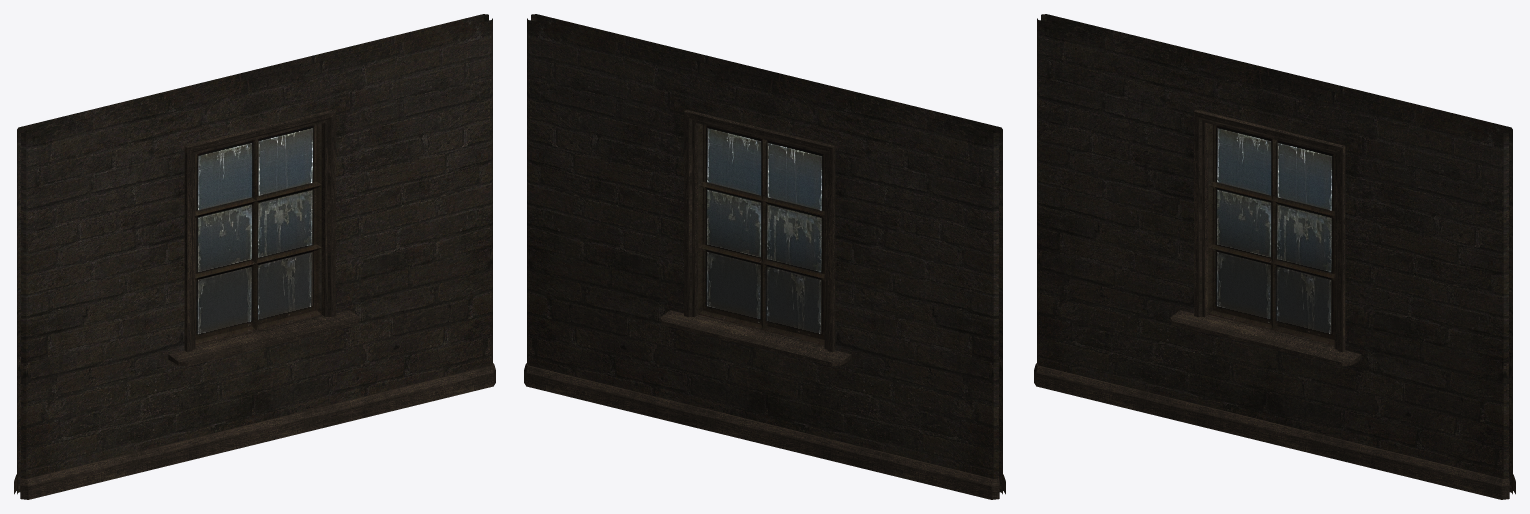
The model's file is window_1_single.glb.
3 renders of one model, left to right at view 1: azimuth 30°, elevation 25°; view 2: azimuth 150°, elevation 25°; view 3: azimuth 330°, elevation 25°, orthographic.
Visible parts, largest first — view 1: window_1_single; view 2: window_1_single; view 3: window_1_single.
Part boxes in pixels (bbox=[...]): window_1_single: bbox=[14, 14, 495, 499]; window_1_single: bbox=[524, 14, 1005, 499]; window_1_single: bbox=[1034, 14, 1515, 499].
Size of the model in its own units: 4.09 by 3 by 0.52.
3 materials, 3 textured.
